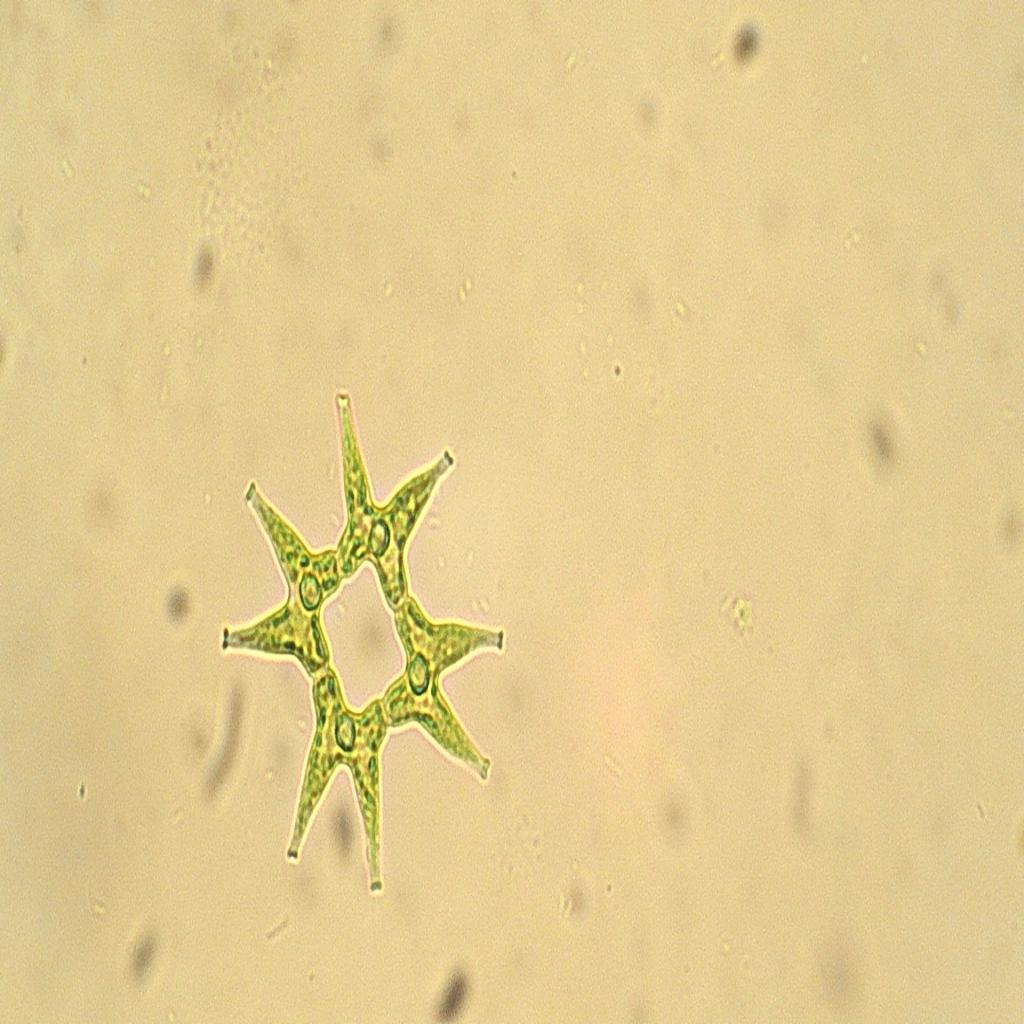Pediastrum_CO: (212, 379, 508, 912)
